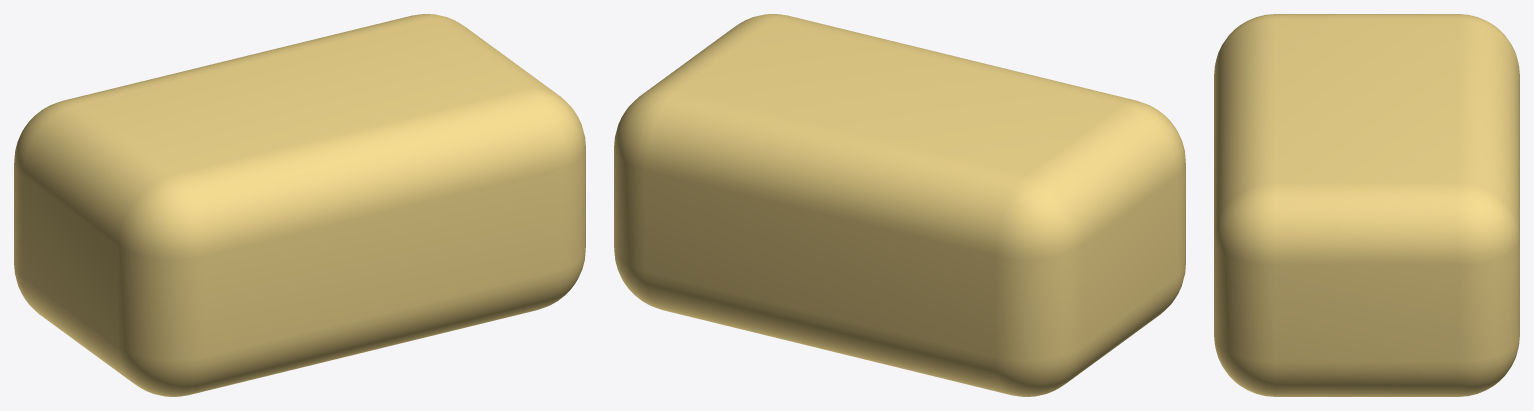
File: blood.glb
3 views of the same model, side by side, from view 1: azimuth 30°, elevation 25°; view 2: azimuth 150°, elevation 25°; view 3: azimuth 270°, elevation 25° (orthographic). The views are drawn at different scales.
Parts seen in each view (by area): view 1: cz-plasma; view 2: cz-plasma; view 3: cz-plasma.
Part boxes in pixels (<box>): cz-plasma: <box>14,14,585,396</box>; cz-plasma: <box>614,14,1185,396</box>; cz-plasma: <box>1214,14,1519,396</box>.
Size of the model in its own units: 20 by 9 by 12.
